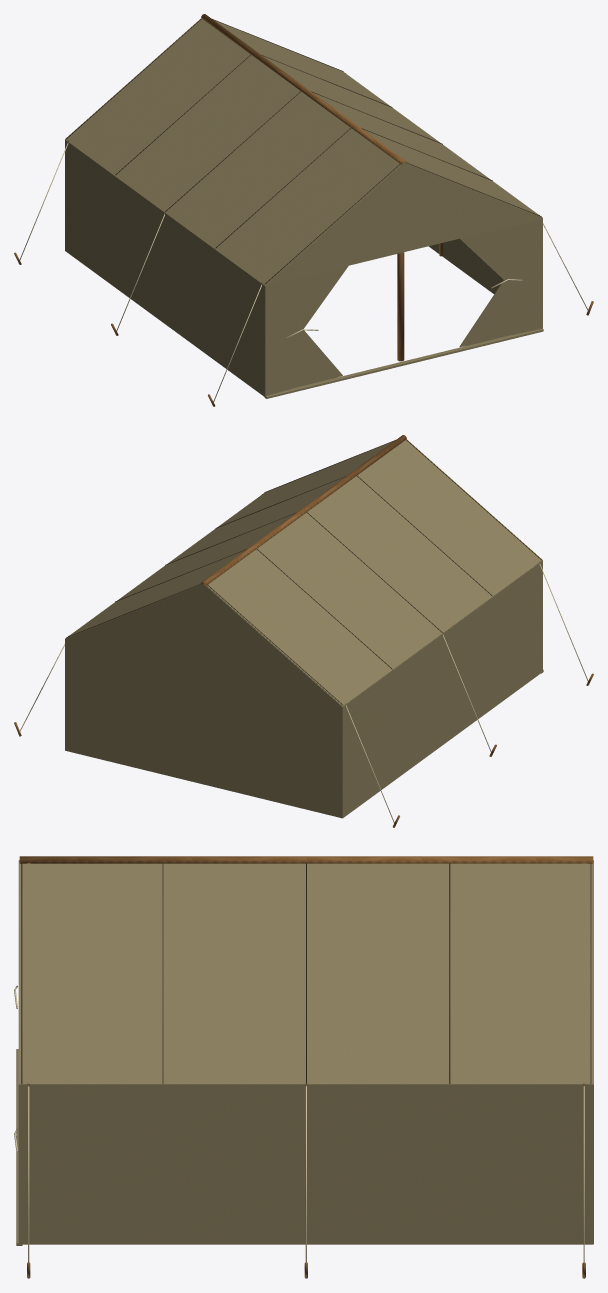
The model's file is canvas-field-tent.glb.
3 renders of one model, top to bottom at view 1: azimuth 30°, elevation 25°; view 2: azimuth 150°, elevation 25°; view 3: azimuth 270°, elevation 25°, orthographic. The views are drawn at different scales.
Parts seen in each view (by area): view 1: Closed-thickness roof canvas, Closed-thickness tent wall, Entrance gable, Closed-thickness roof canvas.001, Tied-back entrance curtain.001, Tied-back entrance curtain, Tent ridge beam, Closed-thickness tent wall.001, Tent sewn threshold, Tent ridge support post; view 2: Closed-thickness roof canvas, Tent back gable canvas, Closed-thickness tent wall, Closed-thickness roof canvas.001, Tent ridge beam; view 3: Closed-thickness roof canvas.001, Closed-thickness tent wall.001, Tent ridge beam, Tent sewn threshold.
Part boxes in pixels (left/top/right/bottom): Closed-thickness roof canvas: left=65, top=18, right=403, bottom=285; Closed-thickness tent wall: left=65, top=139, right=265, bottom=396; Entrance gable: left=265, top=163, right=542, bottom=285; Closed-thickness roof canvas.001: left=214, top=20, right=542, bottom=217; Tied-back entrance curtain.001: left=459, top=218, right=542, bottom=347; Tied-back entrance curtain: left=265, top=266, right=348, bottom=396; Tent ridge beam: left=201, top=14, right=406, bottom=164; Closed-thickness tent wall.001: left=429, top=238, right=503, bottom=293; Tent sewn threshold: left=264, top=328, right=543, bottom=398; Tent ridge support post: left=397, top=162, right=404, bottom=361; Closed-thickness roof canvas: left=206, top=439, right=542, bottom=706; Tent back gable canvas: left=65, top=584, right=342, bottom=818; Closed-thickness tent wall: left=342, top=560, right=542, bottom=817; Closed-thickness roof canvas.001: left=65, top=441, right=393, bottom=638; Tent ridge beam: left=201, top=435, right=406, bottom=585; Closed-thickness roof canvas.001: left=19, top=863, right=593, bottom=1084; Closed-thickness tent wall.001: left=19, top=1084, right=593, bottom=1244; Tent ridge beam: left=19, top=856, right=593, bottom=863; Tent sewn threshold: left=16, top=1049, right=22, bottom=1245.
Size of the model in its own units: 5.57 by 2.81 by 5.05.
Materials: 4 (4 with a texture image).
